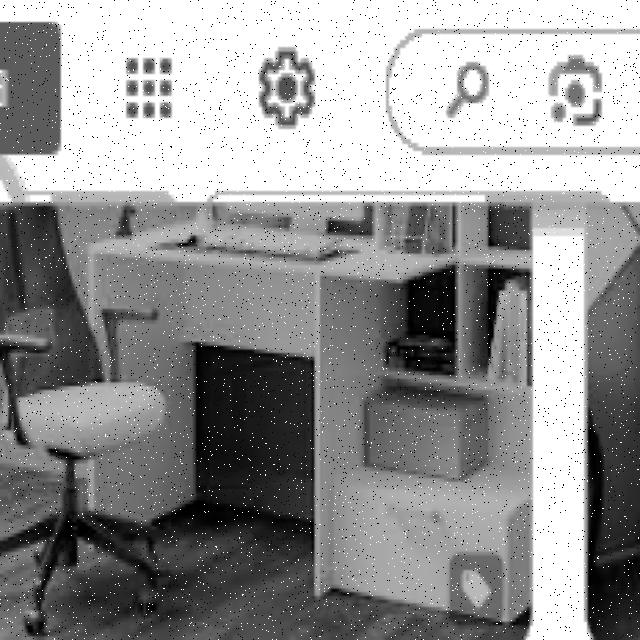book: (0, 202, 169, 632)
table: (88, 217, 458, 596)
